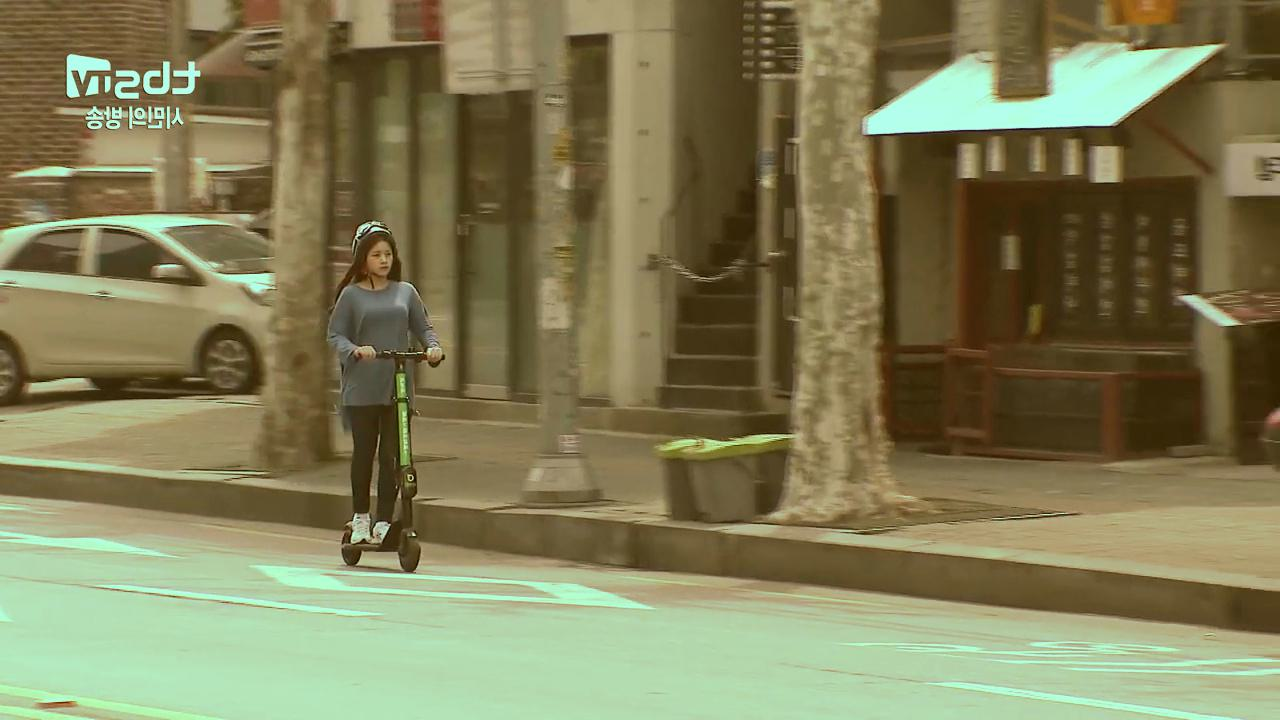helmet: (321, 221, 448, 575)
